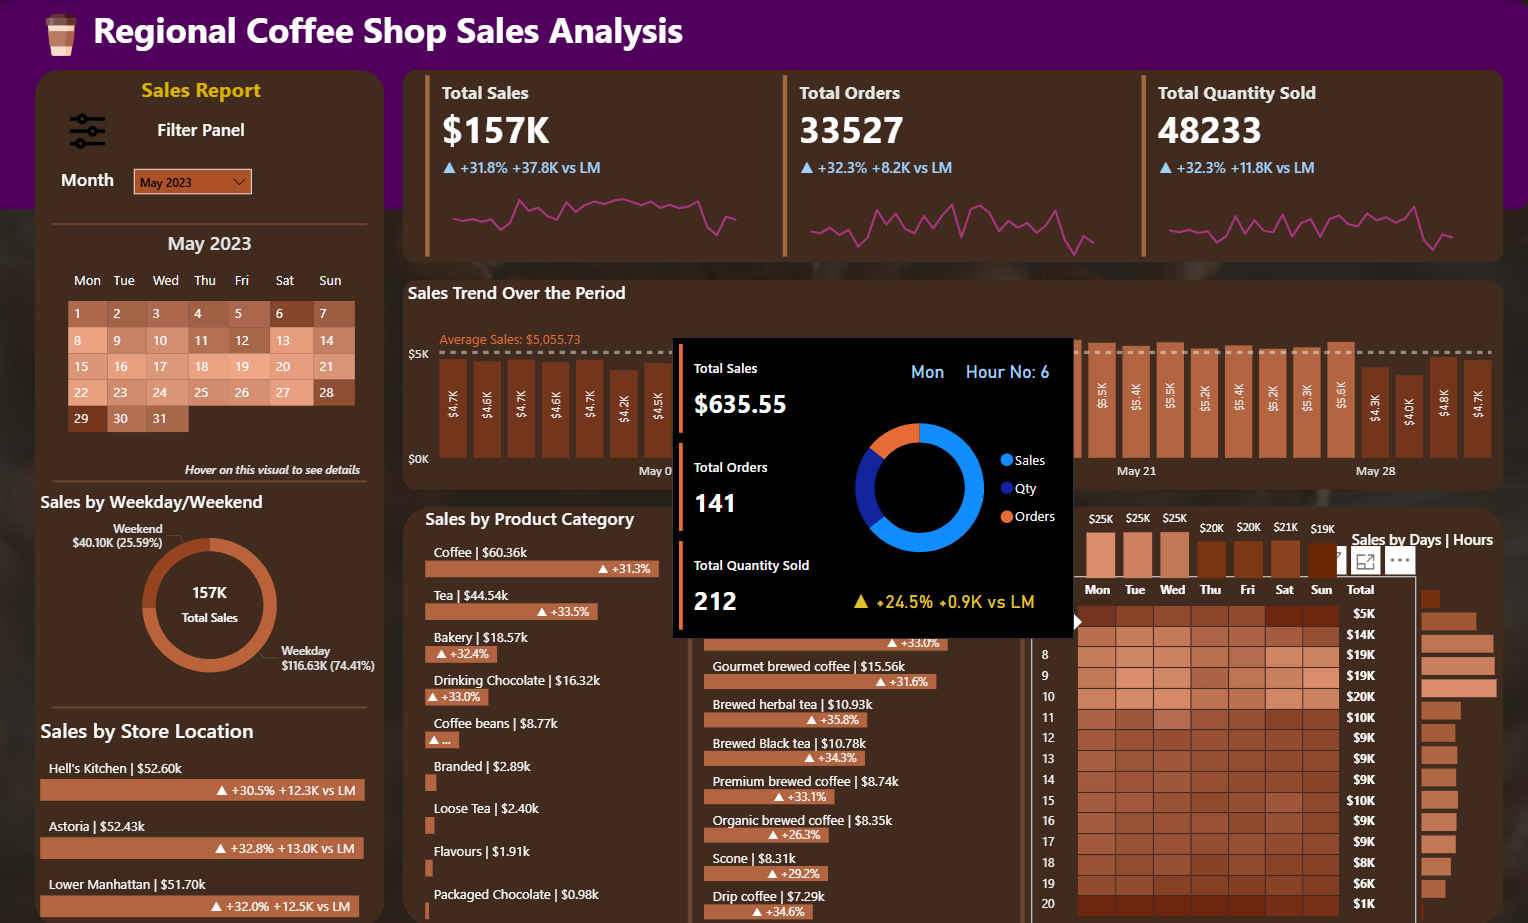

What the dashboard file says about the page in this screenshot:
{"tool":"powerbi","page":{"name":"Page 1","canvas":[1400,850],"ordinal":0},"visuals":[{"type":"shape","box":[-8,0,1408,192],"z":0},{"type":"shape","box":[32,64,320,784],"z":1000},{"type":"shape","box":[368,64,1008,176],"z":2000},{"type":"textbox","box":[80,0,576,64],"z":3000},{"type":"cardVisual","fields":{"Data":["Transactions.Total Sales"]},"box":[384,64,304,176],"z":4000,"group":"g1"},{"type":"cardVisual","fields":{"Data":["Transactions.Total Orders"]},"box":[712,64,304,176],"z":4000,"group":"g2"},{"type":"cardVisual","fields":{"Data":["Transactions.Total Quantity Sold"]},"box":[1040,64,304,176],"z":4000,"group":"g3"},{"type":"slicer","fields":{"Values":["Date Table.Month Year"]},"box":[112,144,128,48],"z":4000},{"type":"group","id":"g1","title":"Group 1","box":[384,64,304,176],"z":5000},{"type":"group","id":"g2","title":"Group 1","box":[712,64,304,176],"z":6000},{"type":"lineChart","fields":{"Y":["Transactions.Total Sales"],"Category":["Date Table.Date.Variation.Date Hierarchy.Year","Date Table.Date.Variation.Date Hierarchy.Quarter","Date Table.Date.Variation.Date Hierarchy.Month","Date Table.Date.Variation.Date Hierarchy.Day"]},"box":[400,144,288,96],"z":6000,"group":"g1"},{"type":"lineChart","fields":{"Category":["Date Table.Date.Variation.Date Hierarchy.Year","Date Table.Date.Variation.Date Hierarchy.Quarter","Date Table.Date.Variation.Date Hierarchy.Month","Date Table.Date.Variation.Date Hierarchy.Day"],"Y":["Transactions.Total Orders"]},"box":[728,144,288,96],"z":6000,"group":"g2"},{"type":"lineChart","fields":{"Category":["Date Table.Date.Variation.Date Hierarchy.Year","Date Table.Date.Variation.Date Hierarchy.Quarter","Date Table.Date.Variation.Date Hierarchy.Month","Date Table.Date.Variation.Date Hierarchy.Day"],"Y":["Transactions.Total Quantity Sold"]},"box":[1056,144,288,96],"z":6000,"group":"g3"},{"type":"group","id":"g3","title":"Group 1","box":[1040,64,304,176],"z":7000},{"type":"pivotTable","fields":{"Rows":["Date Table.Week Number"],"Columns":["Date Table.Day Name"],"Values":["Min(Date Table.Day Number)"]},"box":[32,240,320,192],"z":8000},{"type":"card","fields":{"Values":["Transactions.Foot Note"]},"box":[144,400,208,64],"z":9000},{"type":"card","fields":{"Values":["Min(Date Table.Month Year)"]},"box":[64,208,256,32],"z":10000},{"type":"shape","box":[48,432,288,16],"z":11000},{"type":"shape","box":[48,176,288,58],"z":12000},{"type":"donutChart","title":"Sales by Weekday/Weekend","fields":{"Category":["Date Table.Weekday / Weekend"],"Y":["Transactions.Total Sales"]},"box":[32,448,320,192],"z":13000},{"type":"card","fields":{"Values":["Transactions.Total Sales"]},"box":[144,528,96,48],"z":14000},{"type":"shape","box":[48,640,288,16],"z":15000},{"type":"clusteredBarChart","title":"Sales by Store Location","fields":{"Category":["Transactions.store_location"],"Y":["Transactions.Placeholder","Transactions.Total Sales"]},"box":[32,656,336,192],"z":16000},{"type":"shape","box":[368,256,1008,192],"z":17000},{"type":"columnChart","title":"Sales Trend Over the Period","fields":{"Category":["Transactions.transaction_date"],"Y":["Transactions.Total Sales"]},"box":[368,256,1008,192],"z":18000},{"type":"shape","box":[368,464,1008,384],"z":19000},{"type":"clusteredBarChart","title":"Sales by Product Category","fields":{"Y":["Transactions.Placeholder","Transactions.Total Sales"],"Category":["Transactions.product_category"]},"box":[384,464,256,384],"z":20000},{"type":"shape","box":[624,496,16,352],"z":21000},{"type":"clusteredBarChart","title":"Sales by Product Category","fields":{"Y":["Transactions.Placeholder","Transactions.Total Sales"],"Category":["Transactions.product_type"]},"box":[640,464,320,384],"z":22000},{"type":"shape","box":[928,496,16,352],"z":23000},{"type":"pivotTable","fields":{"Rows":["Transactions.Hour"],"Columns":["Date Table.Day Name"],"Values":["Transactions.Total Sales"]},"box":[944,528,352,320],"z":24000},{"type":"barChart","fields":{"Category":["Transactions.Hour"],"Y":["Transactions.Total Sales"]},"box":[1296,528,80,320],"z":25000},{"type":"columnChart","title":"Sales by Days | Hours","fields":{"Category":["Date Table.Day Name"],"Y":["Transactions.Total Sales"]},"box":[990,455,240,80],"z":26000},{"type":"textbox","box":[1232,480,144,48],"z":27000},{"type":"textbox","box":[48,148,64,32],"z":28000},{"type":"textbox","box":[112,64,144,48],"z":29000},{"type":"textbox","box":[112,102,144,32],"z":29001},{"type":"image","box":[48,96,64,48],"z":29002},{"type":"image","box":[32,0,48,64],"z":29003}]}

Visuals, with their boxes in screenshot pixels (x1, y1, x2, y2), scaled from the page's 1400x850 canvas onto the 1528x923 screenshot:
shape: box=[0, 0, 1527, 208]
shape: box=[35, 69, 384, 921]
shape: box=[402, 69, 1502, 261]
textbox: box=[87, 0, 716, 69]
cardVisual - Transactions.Total Sales: box=[419, 69, 751, 261]
cardVisual - Transactions.Total Orders: box=[777, 69, 1109, 261]
cardVisual - Transactions.Total Quantity Sold: box=[1135, 69, 1467, 261]
slicer - Date Table.Month Year: box=[122, 156, 262, 208]
"Group 1" group: box=[419, 69, 751, 261]
"Group 1" group: box=[777, 69, 1109, 261]
lineChart - Transactions.Total Sales x Date Table.Date.Variation.Date Hierarchy.Year: box=[437, 156, 751, 261]
lineChart - Date Table.Date.Variation.Date Hierarchy.Year x Date Table.Date.Variation.Date Hierarchy.Quarter: box=[795, 156, 1109, 261]
lineChart - Date Table.Date.Variation.Date Hierarchy.Year x Date Table.Date.Variation.Date Hierarchy.Quarter: box=[1153, 156, 1467, 261]
"Group 1" group: box=[1135, 69, 1467, 261]
pivotTable - Date Table.Week Number x Date Table.Day Name: box=[35, 261, 384, 469]
card - Transactions.Foot Note: box=[157, 434, 384, 504]
card - Min(Date Table.Month Year): box=[70, 226, 349, 261]
shape: box=[52, 469, 367, 486]
shape: box=[52, 191, 367, 254]
"Sales by Weekday/Weekend" donutChart: box=[35, 486, 384, 695]
card - Transactions.Total Sales: box=[157, 573, 262, 625]
shape: box=[52, 695, 367, 712]
"Sales by Store Location" clusteredBarChart: box=[35, 712, 402, 921]
shape: box=[402, 278, 1502, 486]
"Sales Trend Over the Period" columnChart: box=[402, 278, 1502, 486]
shape: box=[402, 504, 1502, 921]
"Sales by Product Category" clusteredBarChart: box=[419, 504, 699, 921]
shape: box=[681, 539, 699, 921]
"Sales by Product Category" clusteredBarChart: box=[699, 504, 1048, 921]
shape: box=[1013, 539, 1030, 921]
pivotTable - Transactions.Hour x Date Table.Day Name: box=[1030, 573, 1414, 921]
barChart - Transactions.Hour x Transactions.Total Sales: box=[1414, 573, 1502, 921]
"Sales by Days | Hours" columnChart: box=[1081, 494, 1342, 581]
textbox: box=[1345, 521, 1502, 573]
textbox: box=[52, 161, 122, 195]
textbox: box=[122, 69, 279, 122]
textbox: box=[122, 111, 279, 146]
image: box=[52, 104, 122, 156]
image: box=[35, 0, 87, 69]
